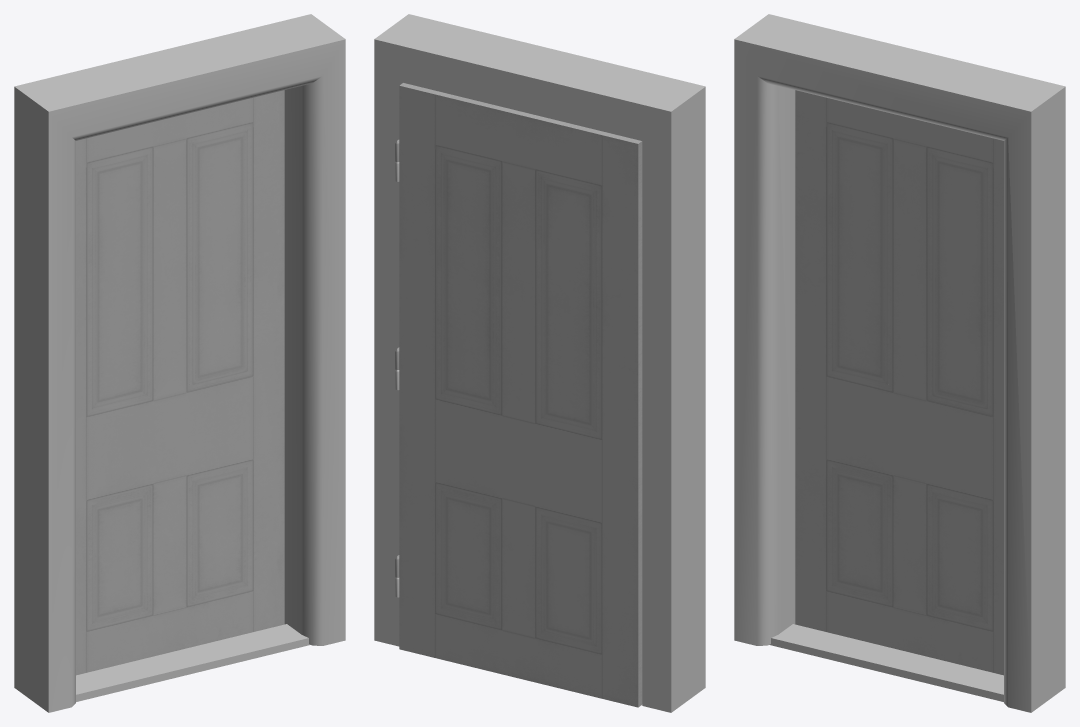
The model's file is doorfile4.fbx.
3 renders of one model, left to right at view 1: azimuth 30°, elevation 25°; view 2: azimuth 150°, elevation 25°; view 3: azimuth 330°, elevation 25°, orthographic.
Parts seen in each view (by area): view 1: doorWing.003, jj_door_3_white; view 2: doorWing.003, jj_door_3_white; view 3: doorWing.003, jj_door_3_white.
Boxes of the visible parts, x1,y1,x2,y2 form: doorWing.003: (76, 90, 284, 675); jj_door_3_white: (14, 14, 345, 712); doorWing.003: (395, 83, 642, 707); jj_door_3_white: (374, 14, 705, 712); doorWing.003: (795, 90, 1003, 675); jj_door_3_white: (734, 14, 1065, 712).
Bounding box in the file's own units: 112 × 217 × 25.28.
